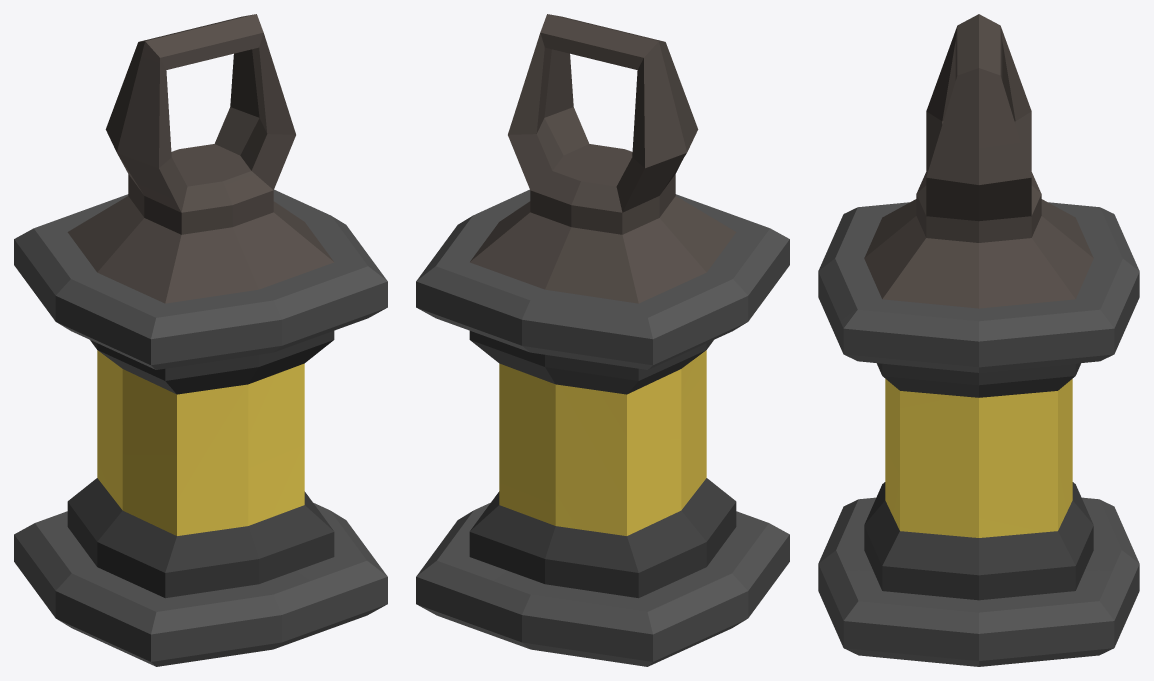
The model's file is Lanten.fbx.
3 renders of one model, left to right at view 1: azimuth 30°, elevation 25°; view 2: azimuth 150°, elevation 25°; view 3: azimuth 270°, elevation 25°, orthographic.
Parts seen in each view (by area): view 1: Lanten; view 2: Lanten; view 3: Lanten.
Part boxes in pixels (x1,y1,x2,y2): Lanten: (14, 14, 387, 666); Lanten: (416, 14, 789, 666); Lanten: (818, 14, 1139, 666).
Size of the model in its own units: 16.03 by 30 by 15.51.
